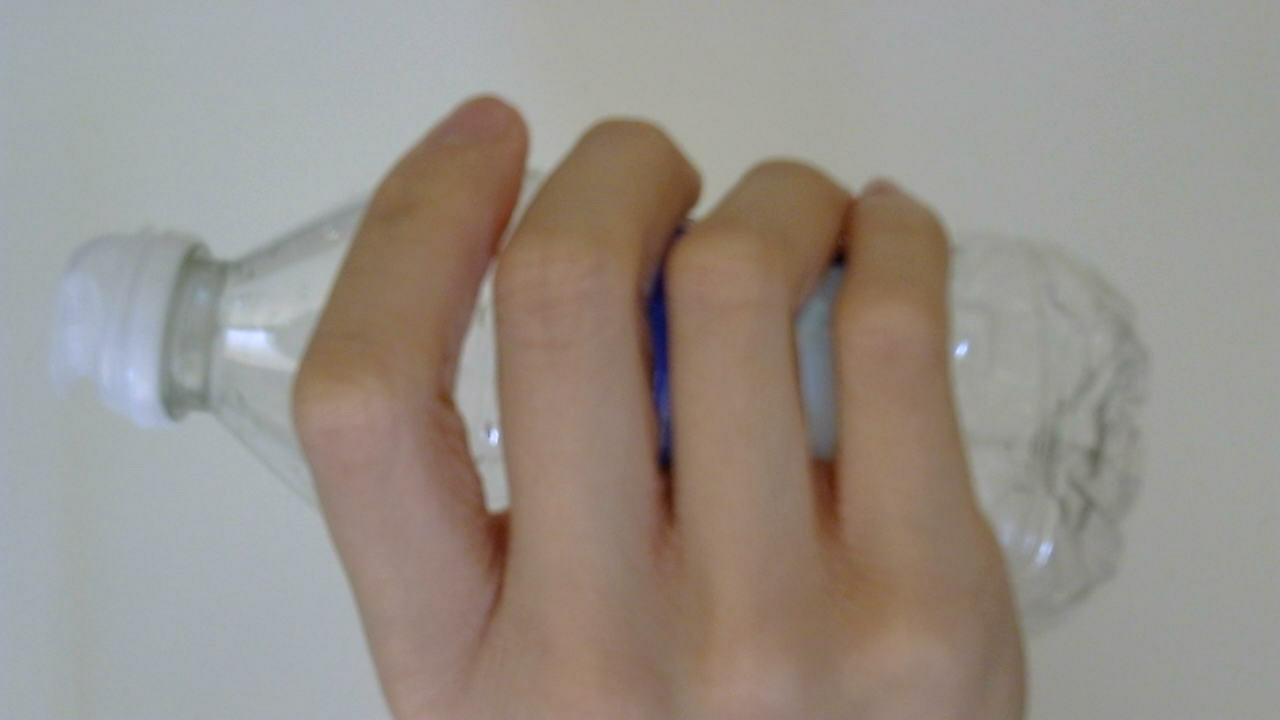Plastic Bottle: (36, 179, 1175, 652)
